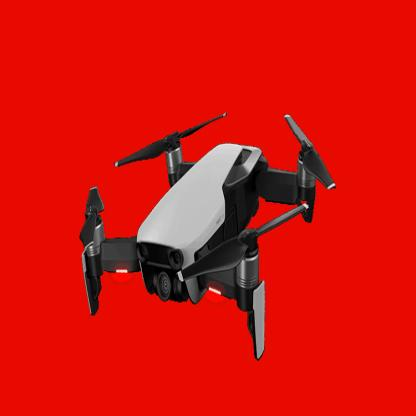drone: (73, 104, 342, 353)
